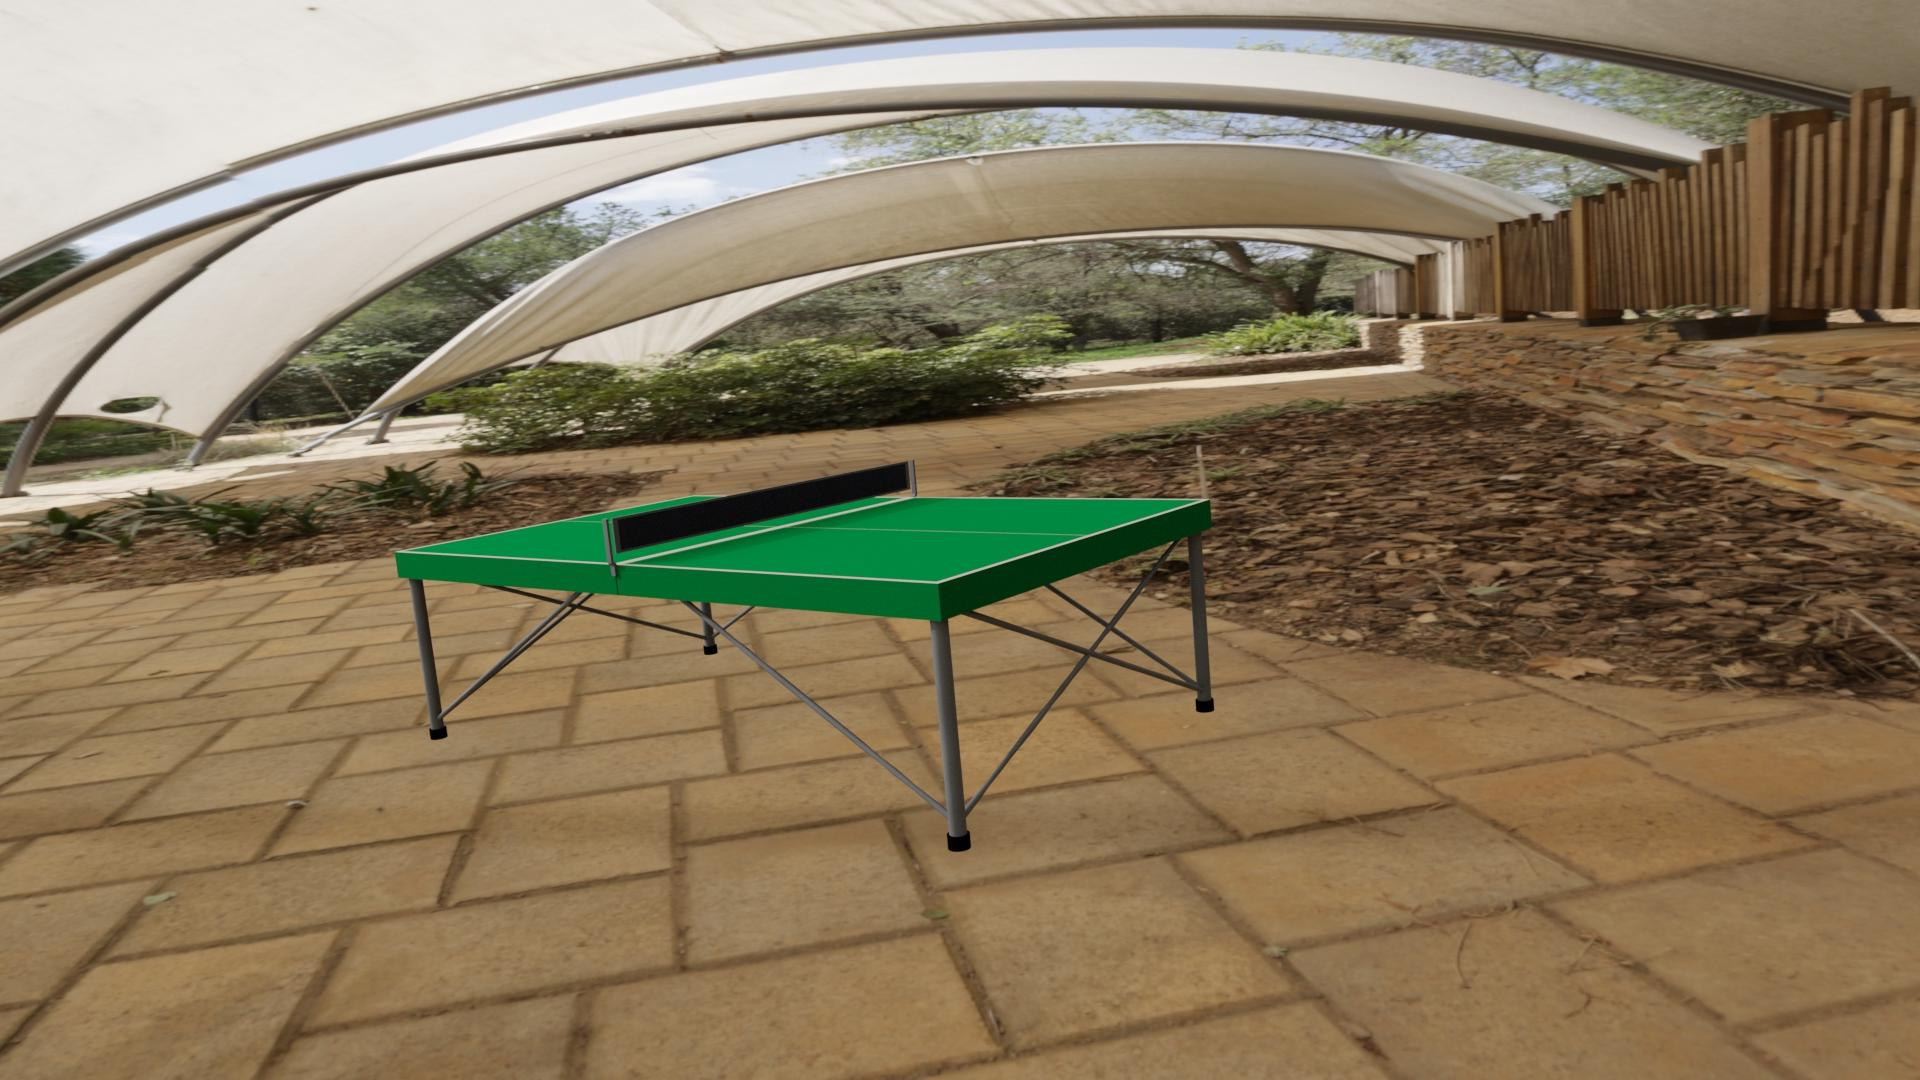table: (402, 496, 1203, 582)
